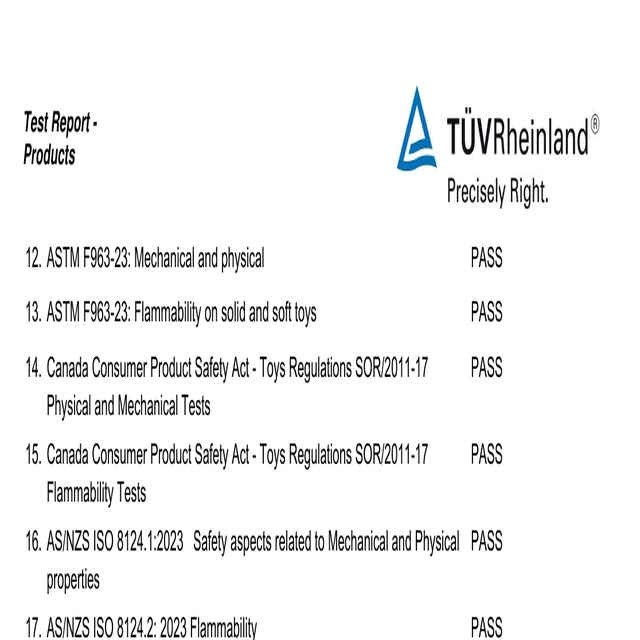tuv_rheinland: (393, 83, 601, 173)
